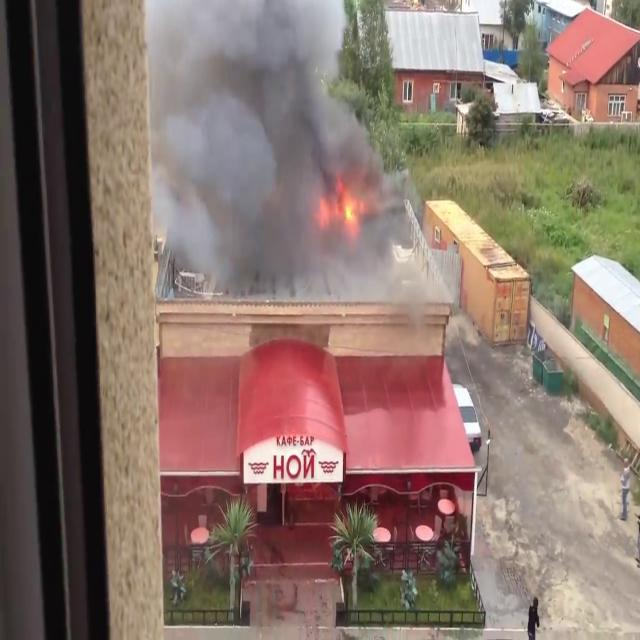Fire: (316, 180, 372, 232)
Smoke: (144, 1, 378, 290)
